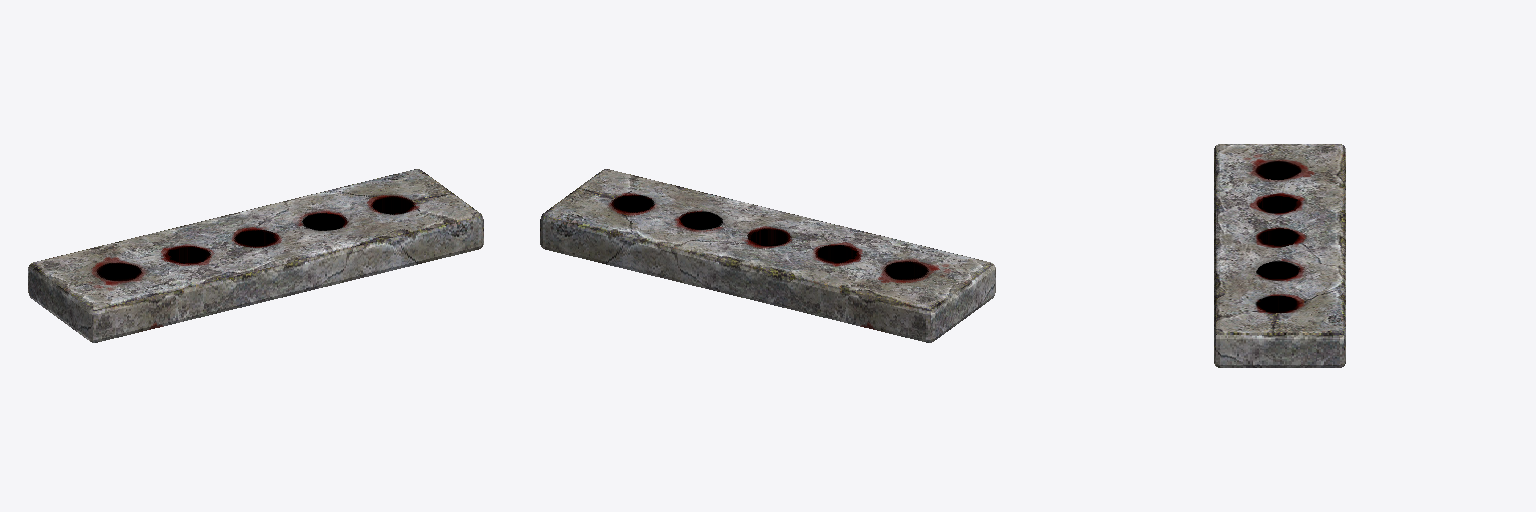
The picture shows the model from 3 angles: view 1: azimuth 30°, elevation 25°; view 2: azimuth 150°, elevation 25°; view 3: azimuth 270°, elevation 25°; orthographic projection.
Parts seen in each view (by area): view 1: ChamferBox001; view 2: ChamferBox001; view 3: ChamferBox001.
Part boxes in pixels (left/top/right/bottom): ChamferBox001: left=28, top=169, right=483, bottom=342; ChamferBox001: left=540, top=169, right=995, bottom=342; ChamferBox001: left=1214, top=144, right=1345, bottom=367.
Bounding box in the file's own units: 1 × 0.0884 × 0.2925.
Materials: 1 (1 with a texture image).